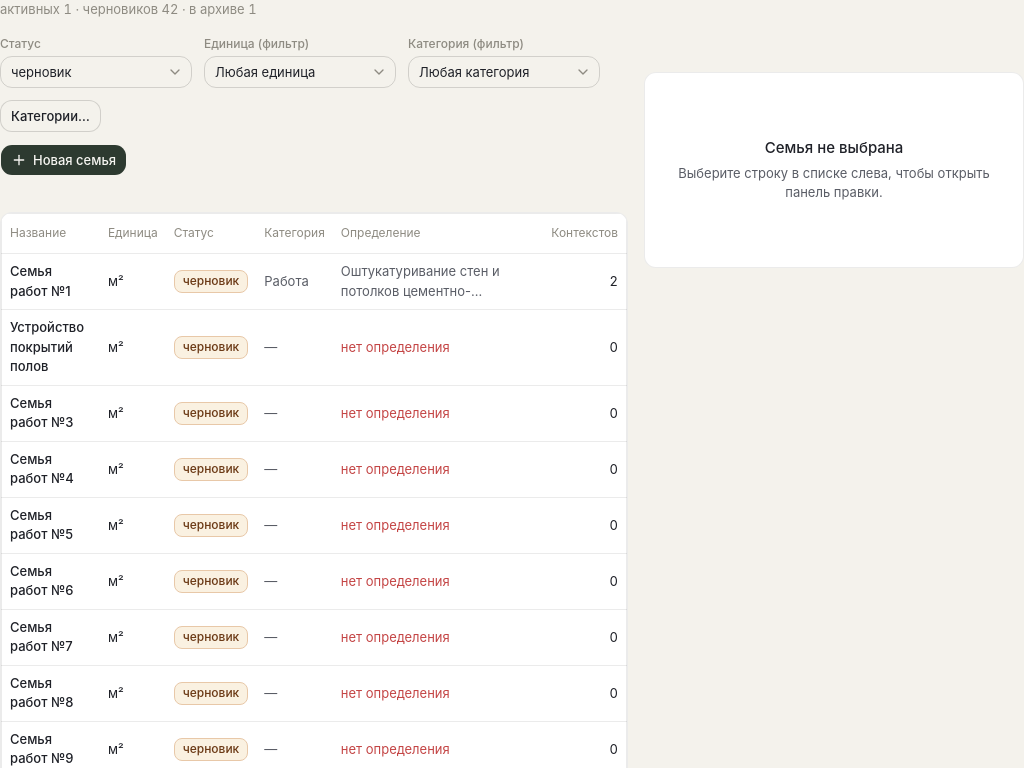
Test: FamiliesTab: категория семьи › карточка семьи показывает её категорию; смена шлёт family_category_id, список обновляется
expect the text "Семья работ №3" is shown: met, box left=2, top=385, right=100, bottom=441
Click the text "Семья работ №1": (51, 282) left=2, top=254, right=100, bottom=310
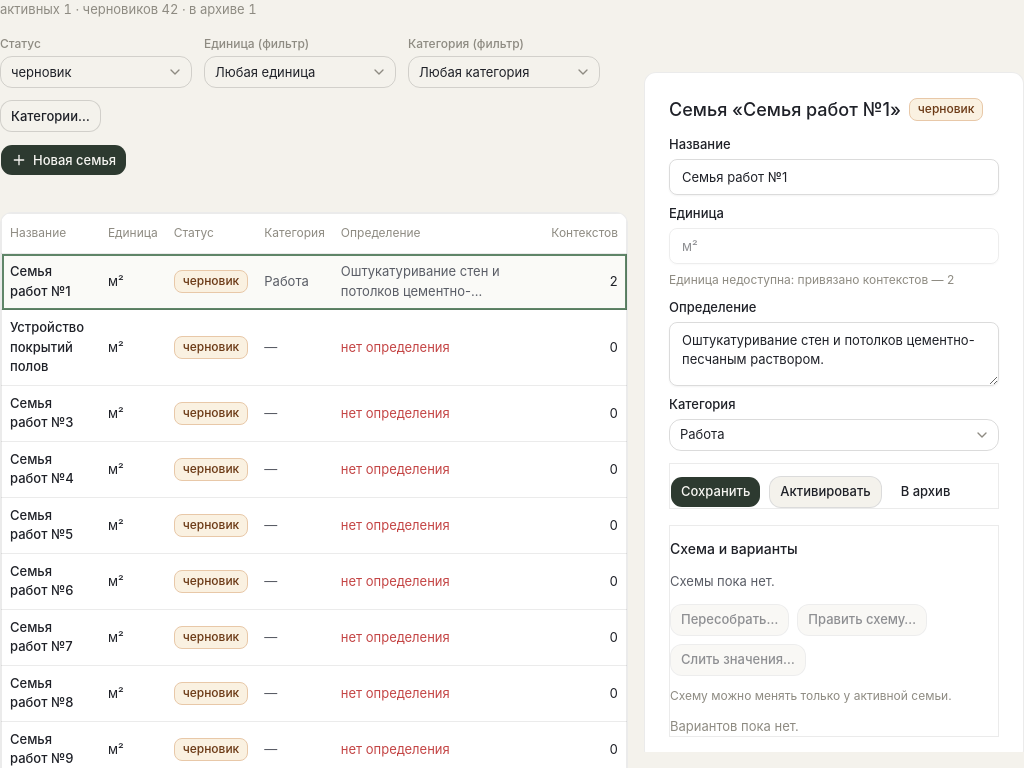
expect the dropdown named "Категория" shows "Работа": met
Click the dropdown named "Категория": (702, 434) left=669, top=419, right=999, bottom=451
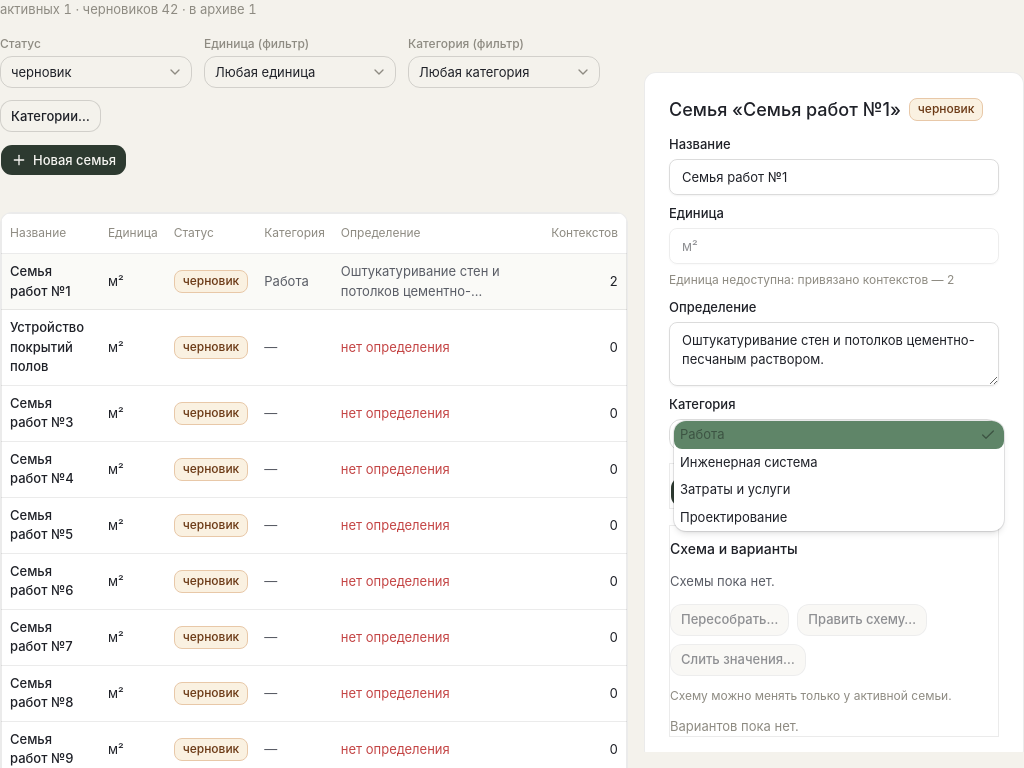
Click the option "Инженерная система": (749, 462) left=680, top=454, right=818, bottom=470
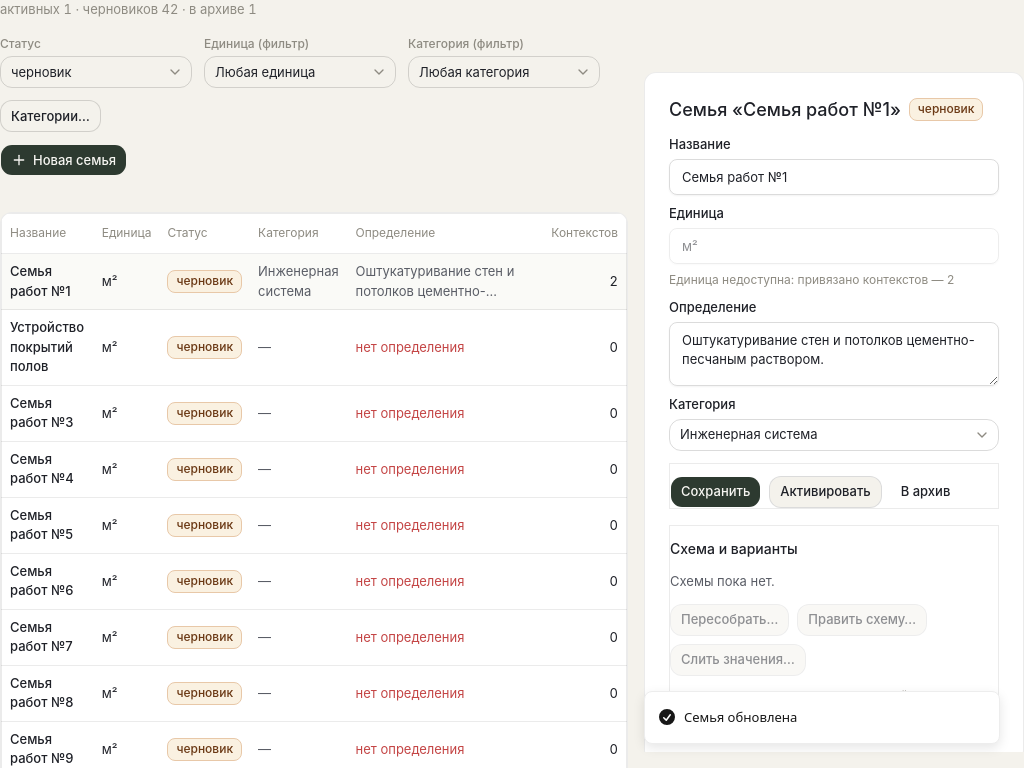
expect the cell "Инженерная система" is shown: met, box left=250, top=254, right=348, bottom=310
